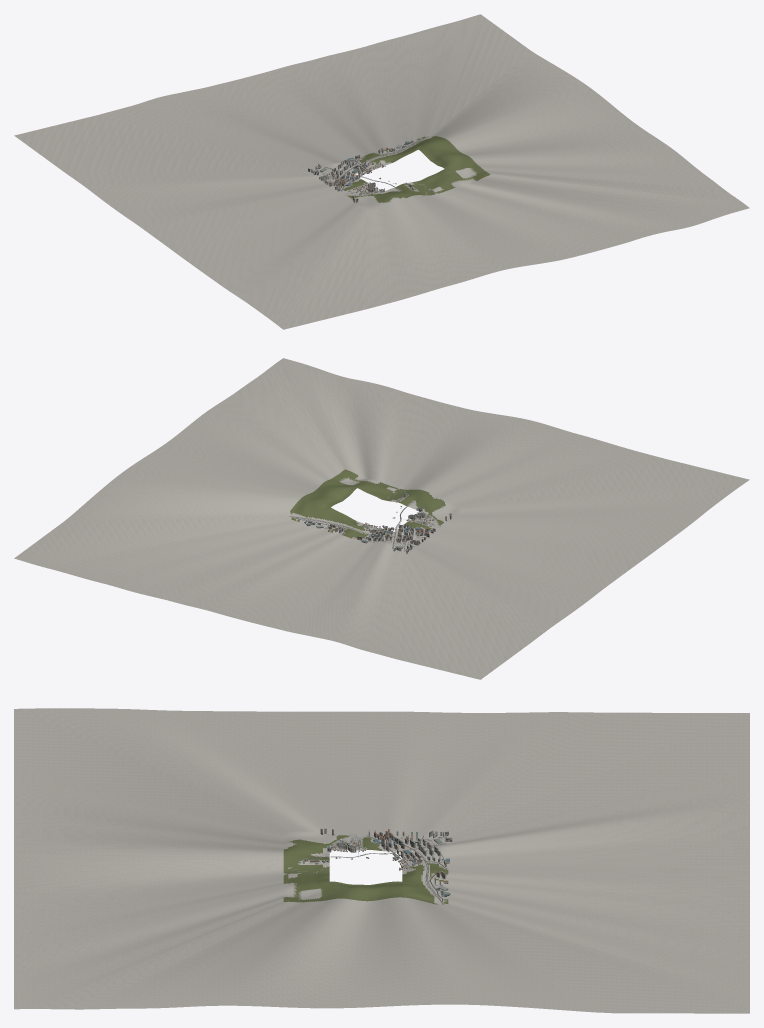
3 views of the same model, one above another, from view 1: azimuth 30°, elevation 25°; view 2: azimuth 150°, elevation 25°; view 3: azimuth 270°, elevation 25° (orthographic). The views are drawn at different scales.
Parts seen in each view (by area): view 1: ctx-ground, ctx-buildings; view 2: ctx-ground, ctx-buildings; view 3: ctx-ground, ctx-buildings, ctx-roads.
Boxes of the visible parts, x1,y1,x2,y2 form: ctx-ground: [14, 14, 749, 329]; ctx-buildings: [308, 140, 413, 202]; ctx-ground: [14, 358, 749, 679]; ctx-buildings: [304, 507, 451, 553]; ctx-ground: [14, 708, 749, 1013]; ctx-buildings: [320, 828, 452, 896]; ctx-roads: [285, 835, 447, 904].
Bounding box in the file's own units: 8000 × 238 × 8000.
18 materials, 15 textured.
